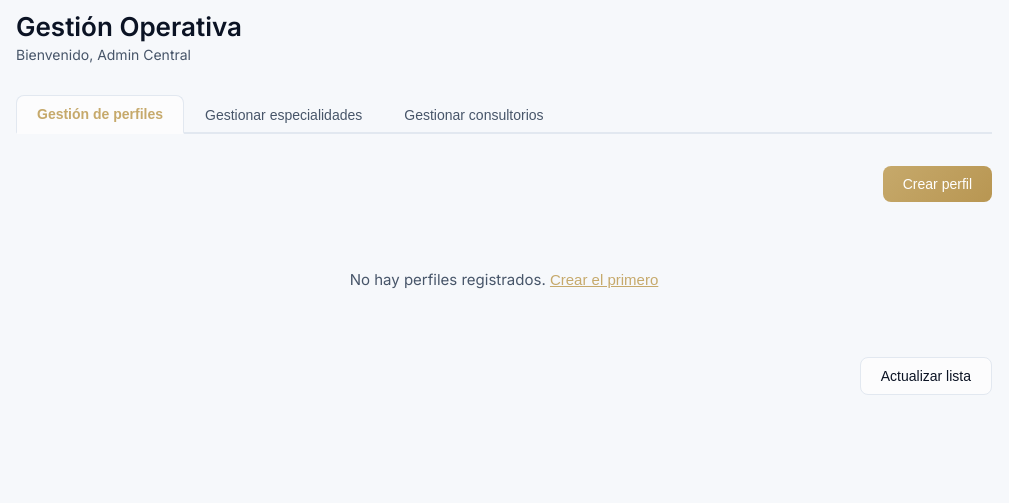
Test: AdminProfilesPage › switches to offices mode and hides profile actions
The width and height of the screenshot is (1009, 503).
Click the button with test id "btn-mode-offices" at (474,114), box x1=383 y1=95 x2=565 y2=134
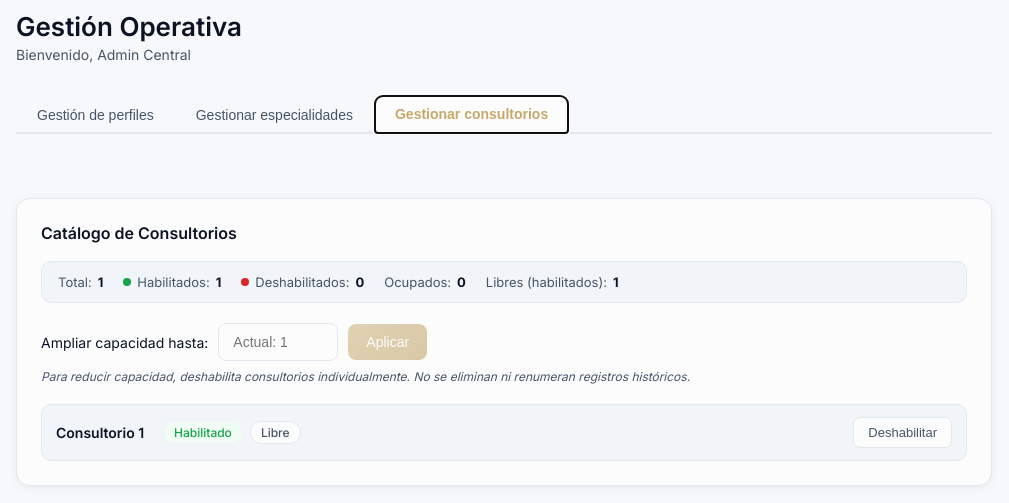
Check: the element with test id "office-manager" is shown, box x1=16 y1=198 x2=992 y2=486
Check: the element with test id "office-summary" shows "Total:", box x1=58 y1=274 x2=92 y2=290
Check: the form with test id "office-capacity-form" is shown, box x1=41 y1=323 x2=427 y2=361
